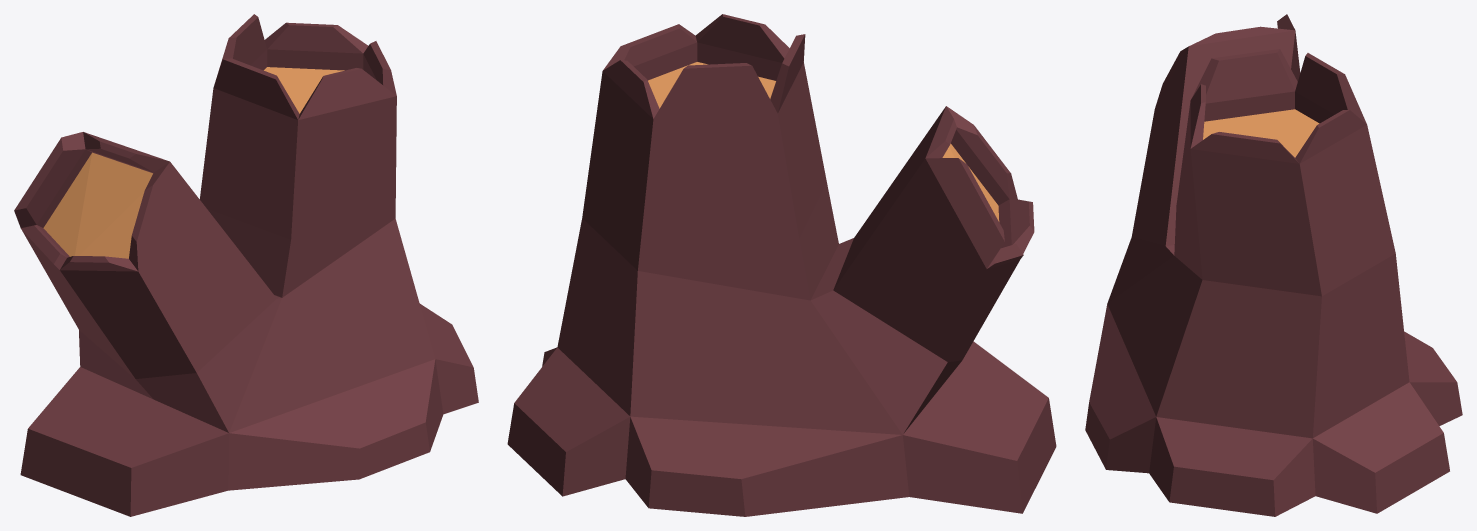
The model's file is log_6.fbx.
3 views of the same model, side by side, from view 1: azimuth 30°, elevation 25°; view 2: azimuth 150°, elevation 25°; view 3: azimuth 270°, elevation 25° (orthographic). The views are drawn at different scales.
Visible parts, largest first — view 1: Cylinder; view 2: Cylinder; view 3: Cylinder.
Boxes of the visible parts, x1,y1,x2,y2 form: Cylinder: (14,14,478,516); Cylinder: (507,14,1056,516); Cylinder: (1085,14,1462,516).
Size of the model in its own units: 74.66 by 59.75 by 55.3.
